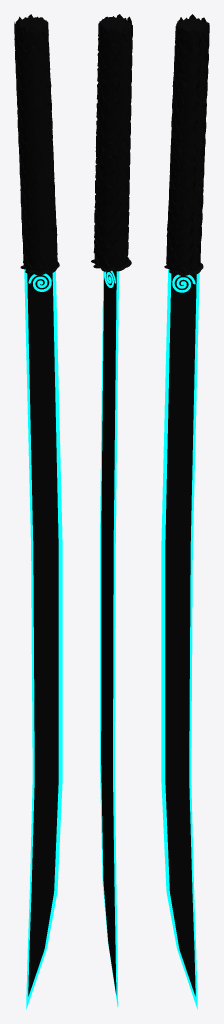
File: PORTALS KATANA.glb
3 views of the same model, side by side, from view 1: azimuth 90°, elevation 25°; view 2: azimuth 210°, elevation 25°; view 3: azimuth 270°, elevation 25° (orthographic).
Visible parts, largest first — view 1: Cube.001, Cube; view 2: Cube.001, Cube; view 3: Cube.001, Cube.
Boxes of the visible parts, box(x1,y1,x2,y2) form: Cube.001: box(14, 14, 62, 1009); Cube: box(28, 273, 51, 291); Cube.001: box(91, 14, 132, 1007); Cube: box(104, 270, 115, 287); Cube.001: box(161, 14, 209, 1009); Cube: box(172, 274, 195, 292).
Size of the model in its own units: 0.6966 by 18.5 by 0.8231.
